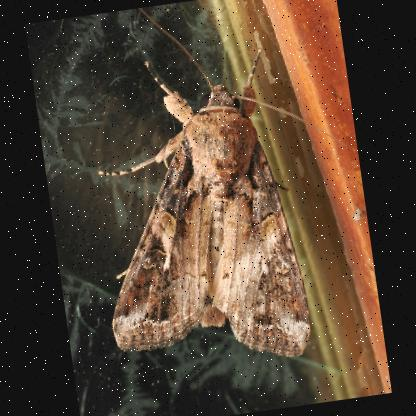Fall Armyworm Moth: (64, 0, 378, 386)
